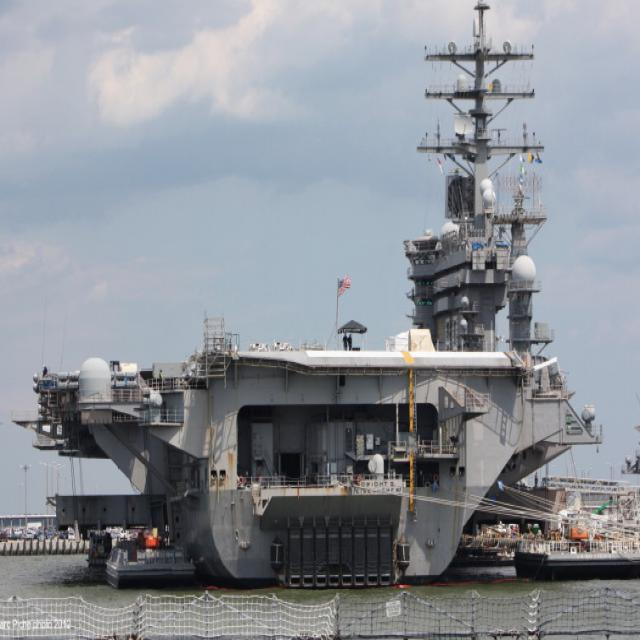Portanaves: (5, 1, 607, 591)
